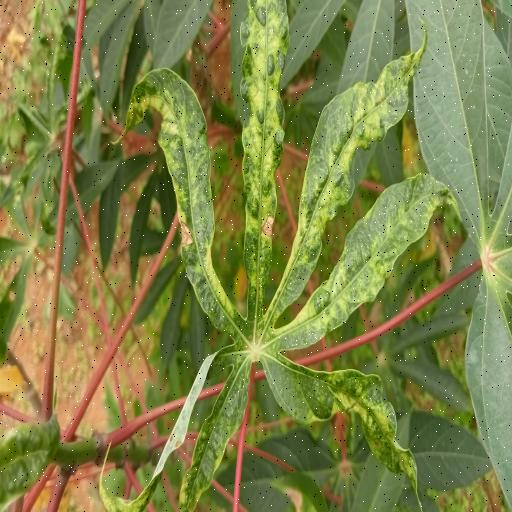Cassava_Mosaic: (114, 0, 459, 512)
